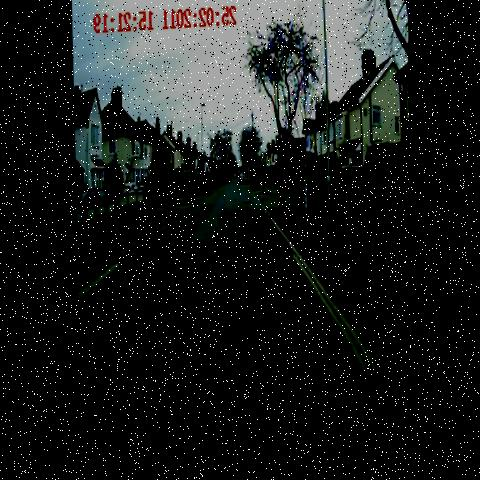pothole: (209, 246, 230, 278), (244, 222, 268, 246), (184, 286, 199, 307), (217, 208, 230, 227), (237, 199, 252, 215)
